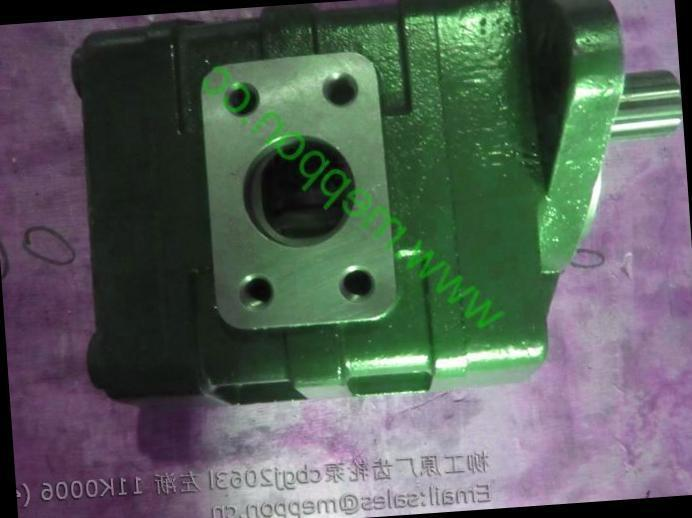hole: (317, 64, 364, 112), (333, 258, 377, 308), (232, 270, 276, 317)
